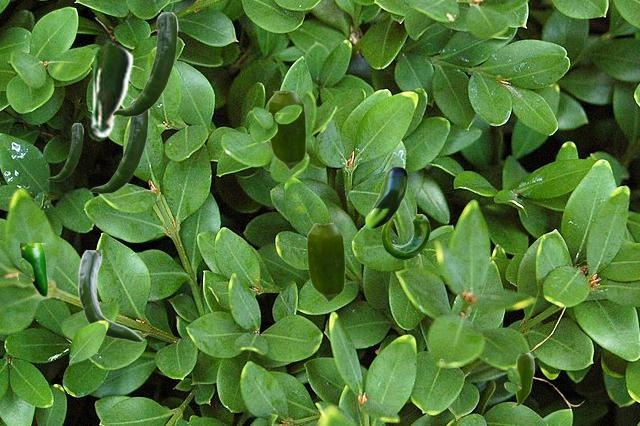green_chili: (112, 12, 177, 116), (78, 250, 142, 341), (89, 98, 148, 193), (88, 42, 133, 137), (267, 91, 305, 169), (306, 223, 344, 301), (363, 167, 406, 228), (381, 214, 429, 258), (47, 123, 82, 180), (20, 243, 47, 296), (512, 353, 533, 406)
